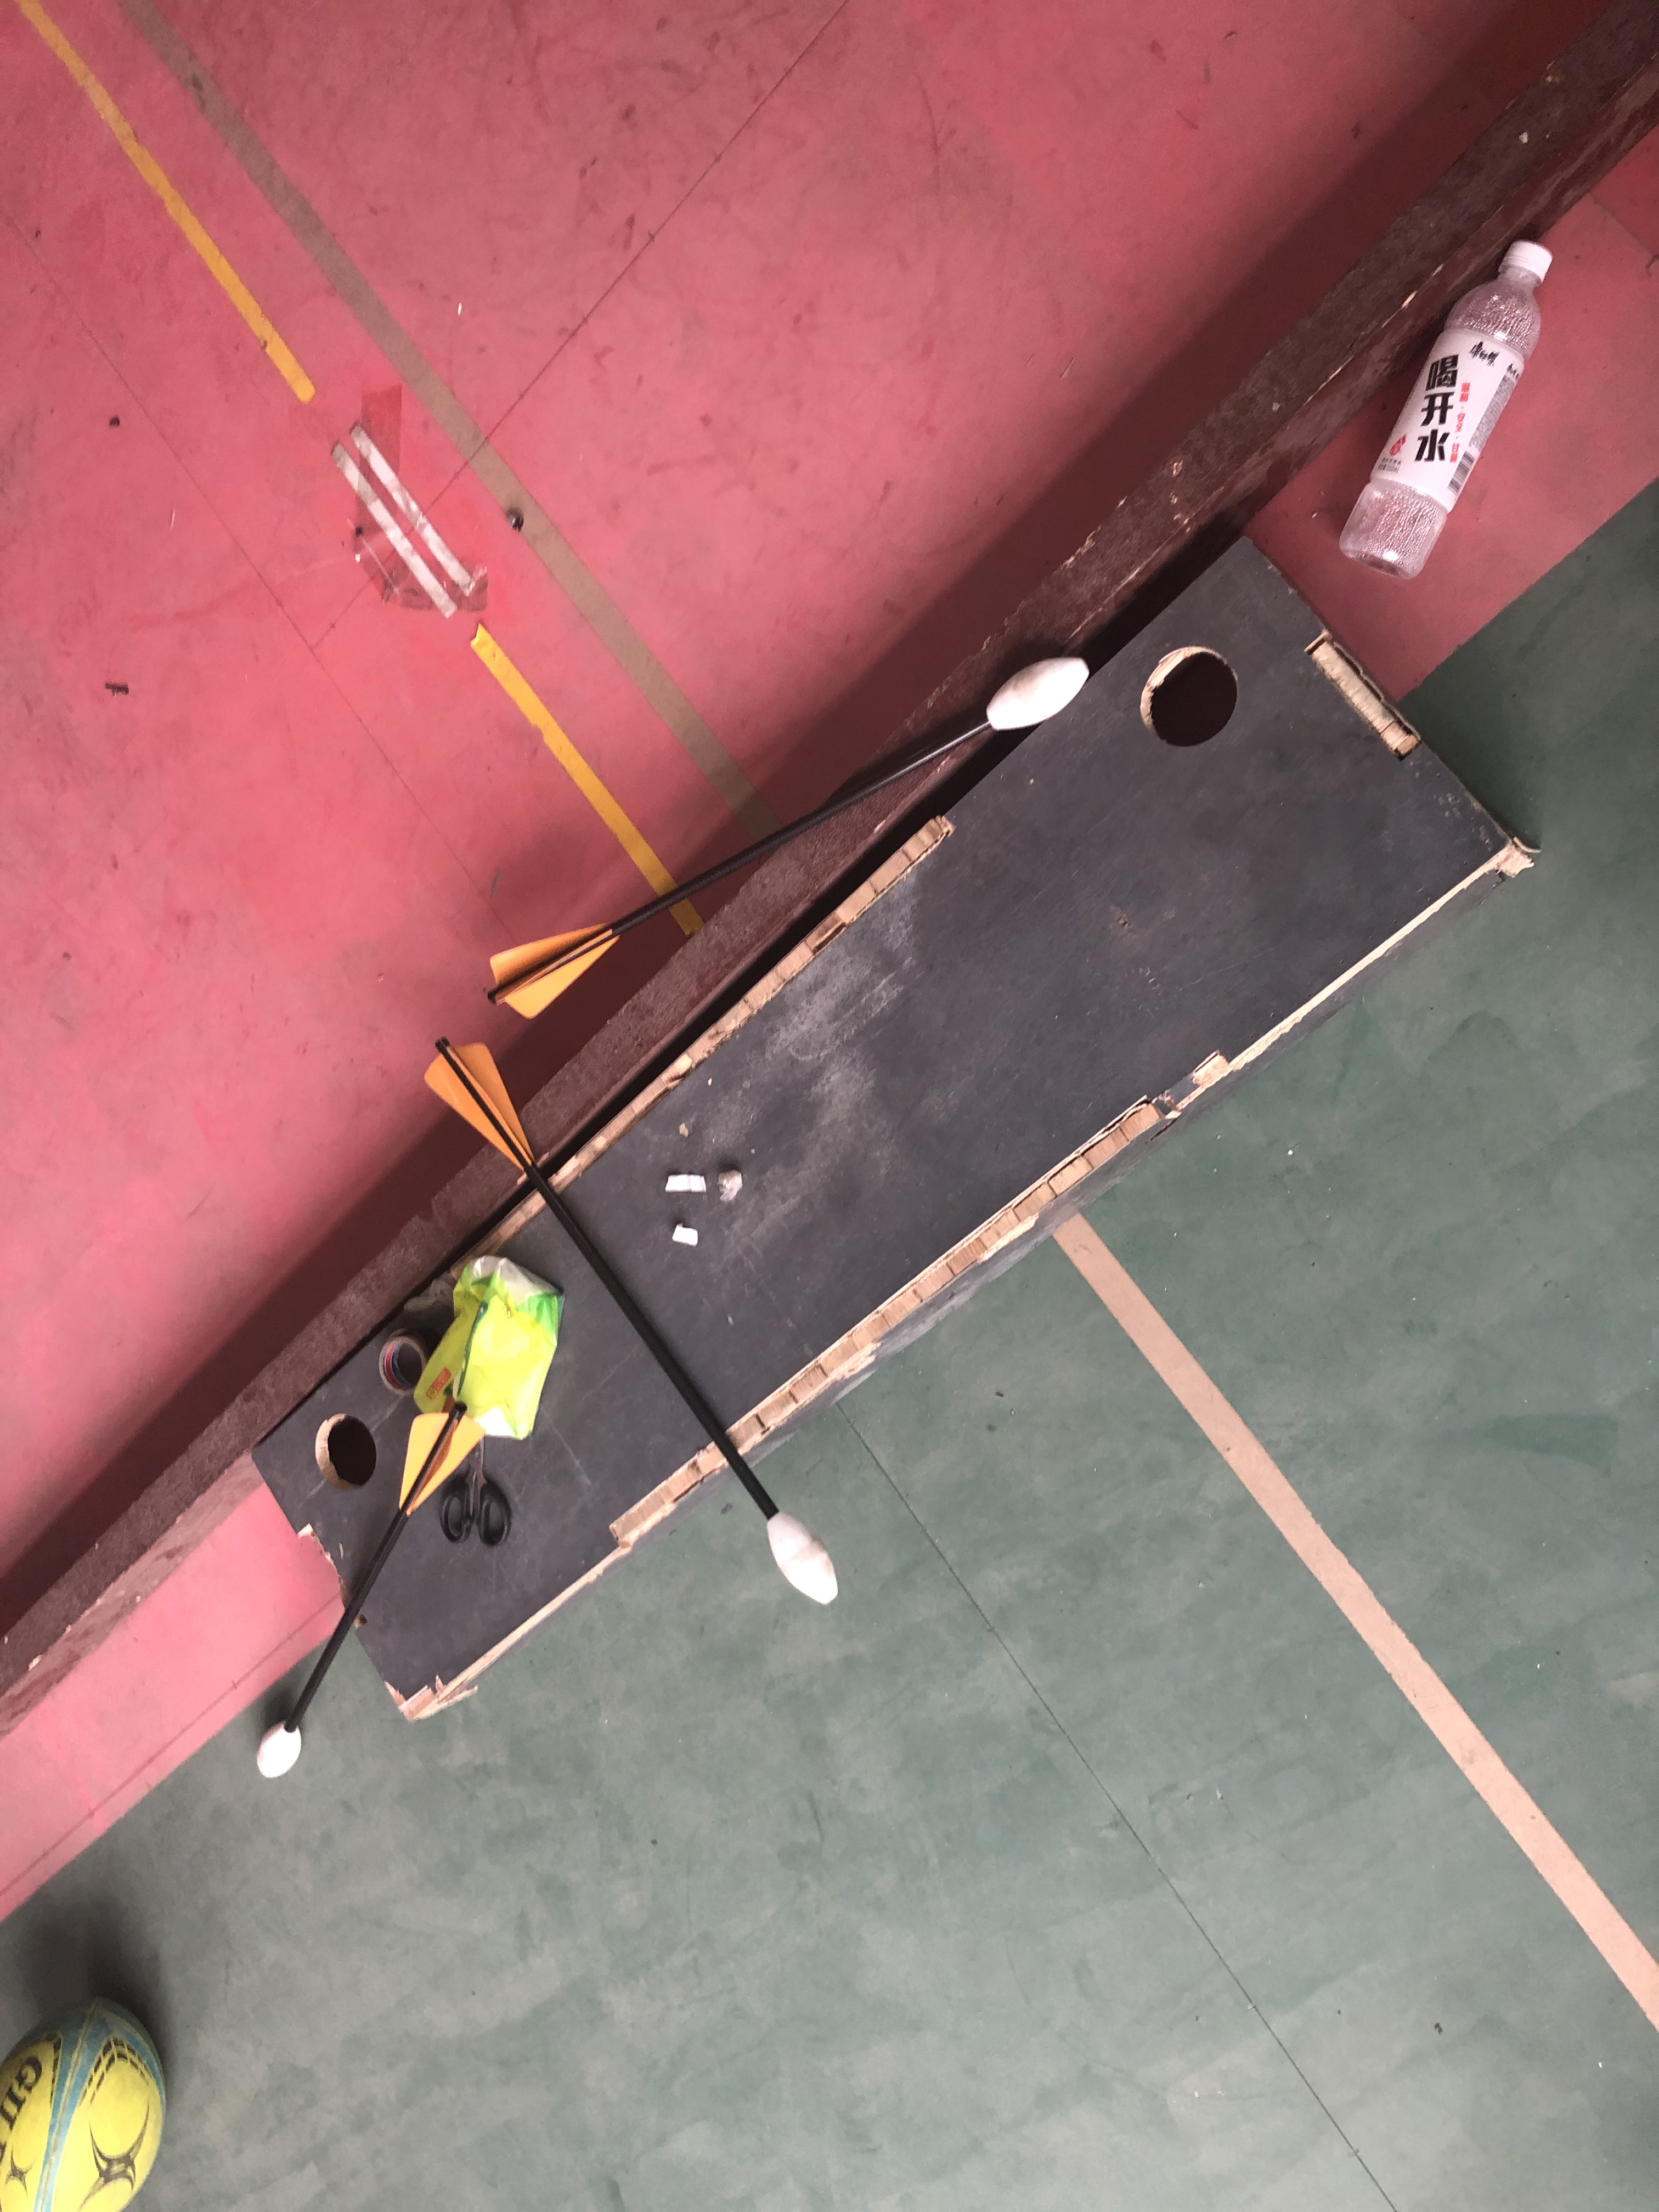arrow: (420, 1031, 843, 1606), (481, 651, 1100, 1014), (244, 1414, 490, 1778)
arrowFront: (763, 1501, 842, 1615), (985, 658, 1094, 738), (258, 1726, 307, 1778)
